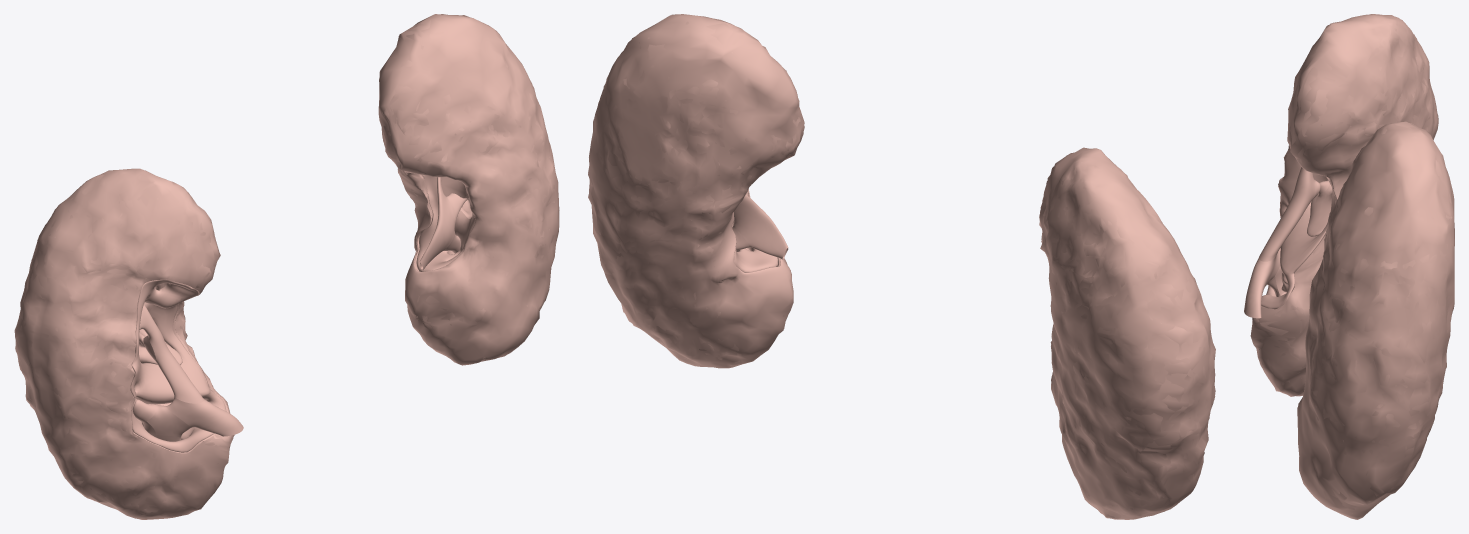
The model's file is urinary.abdomen.glb.
The picture shows the model from 3 angles, left to right: view 1: azimuth 30°, elevation 25°; view 2: azimuth 150°, elevation 25°; view 3: azimuth 270°, elevation 25°; orthographic projection. The views are drawn at different scales.
Parts seen in each view (by area): view 1: fibrous_capsule_of_left_kidney, fibrous_capsule_of_right_kidney, cortex_of_right_kidney, hilum_of_right_kidney, cortex_of_left_kidney, hilum_of_left_kidney, right_major_calyx_a, right_renal_pelvis, left_renal_pelvis, right_major_calyx_b; view 2: fibrous_capsule_of_left_kidney, fibrous_capsule_of_right_kidney, cortex_of_right_kidney, cortex_of_left_kidney, left_renal_pelvis, hilum_of_left_kidney; view 3: fibrous_capsule_of_left_kidney, fibrous_capsule_of_right_kidney, cortex_of_left_kidney, cortex_of_right_kidney, hilum_of_right_kidney, right_major_calyx_a, right_renal_pelvis, right_renal_pyramid_f.
Boxes of the visible parts, left/top/right/bottom form: fibrous_capsule_of_left_kidney: left=378, top=14, right=559, bottom=365; fibrous_capsule_of_right_kidney: left=14, top=168, right=233, bottom=519; cortex_of_right_kidney: left=14, top=169, right=234, bottom=518; hilum_of_right_kidney: left=130, top=279, right=226, bottom=452; cortex_of_left_kidney: left=382, top=15, right=555, bottom=360; hilum_of_left_kidney: left=416, top=175, right=475, bottom=271; right_major_calyx_a: left=139, top=304, right=204, bottom=403; right_renal_pelvis: left=166, top=397, right=243, bottom=436; left_renal_pelvis: left=419, top=193, right=455, bottom=269; right_major_calyx_b: left=147, top=405, right=191, bottom=437; fibrous_capsule_of_left_kidney: left=588, top=14, right=804, bottom=368; fibrous_capsule_of_right_kidney: left=1039, top=147, right=1215, bottom=519; cortex_of_right_kidney: left=1039, top=148, right=1215, bottom=519; cortex_of_left_kidney: left=588, top=20, right=804, bottom=365; left_renal_pelvis: left=733, top=194, right=788, bottom=259; hilum_of_left_kidney: left=732, top=193, right=777, bottom=272; fibrous_capsule_of_left_kidney: left=1297, top=122, right=1454, bottom=519; fibrous_capsule_of_right_kidney: left=1250, top=14, right=1438, bottom=396; cortex_of_left_kidney: left=1298, top=121, right=1454, bottom=513; cortex_of_right_kidney: left=1252, top=15, right=1438, bottom=396; hilum_of_right_kidney: left=1261, top=150, right=1335, bottom=309; right_major_calyx_a: left=1259, top=167, right=1317, bottom=261; right_renal_pelvis: left=1244, top=249, right=1280, bottom=318; right_renal_pyramid_f: left=1307, top=180, right=1332, bottom=236.
Size of the model in its own units: 0.1782 by 0.1238 by 0.0541.
